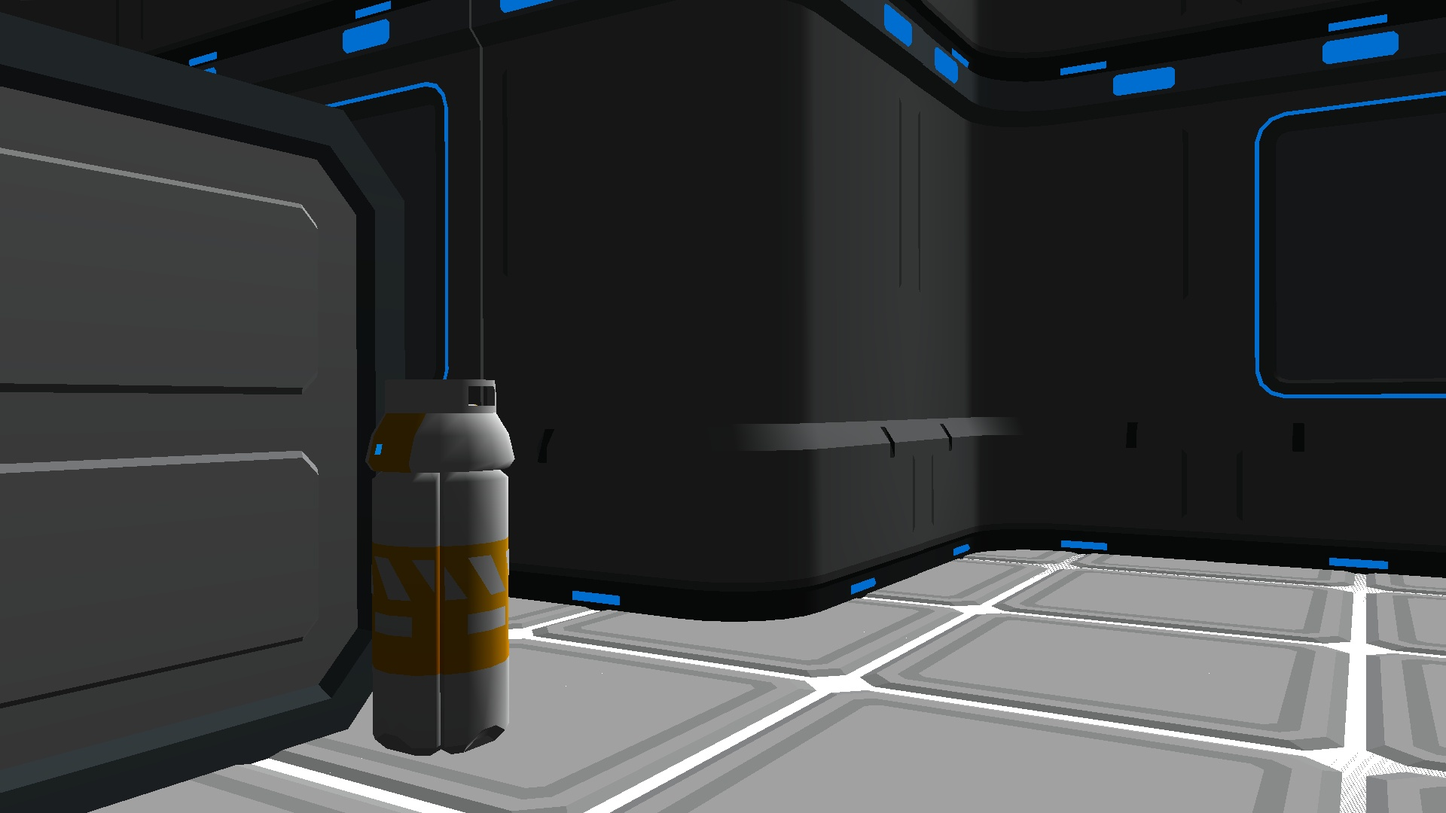yellow barrel: (365, 379, 515, 756)
